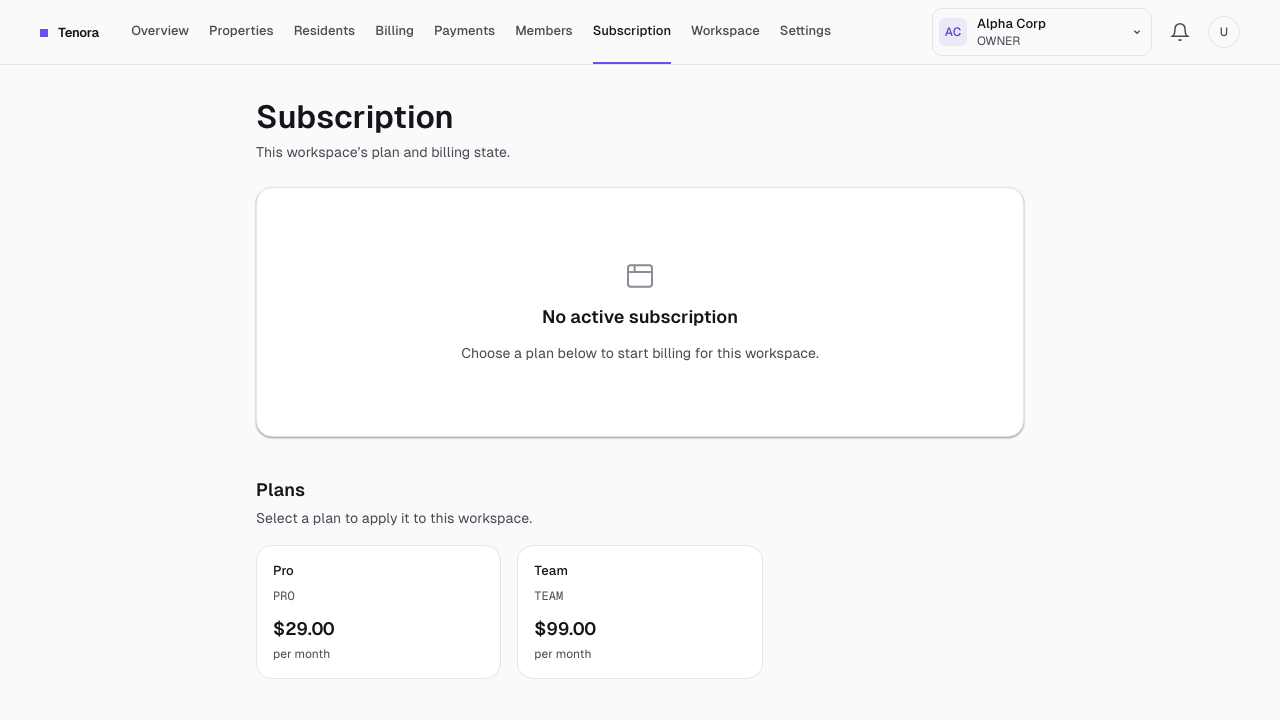
Test case: SubscriptionPage — checkout (D2) › dismissing Checkout sends no confirm request and shows a clean message
Expected: the heading "No active subscription" is shown, [542, 304, 738, 330]
Click the radio button labelled "Pro PRO $29.00 per month" at (379, 612), box [256, 545, 501, 679]
(page scrolled)
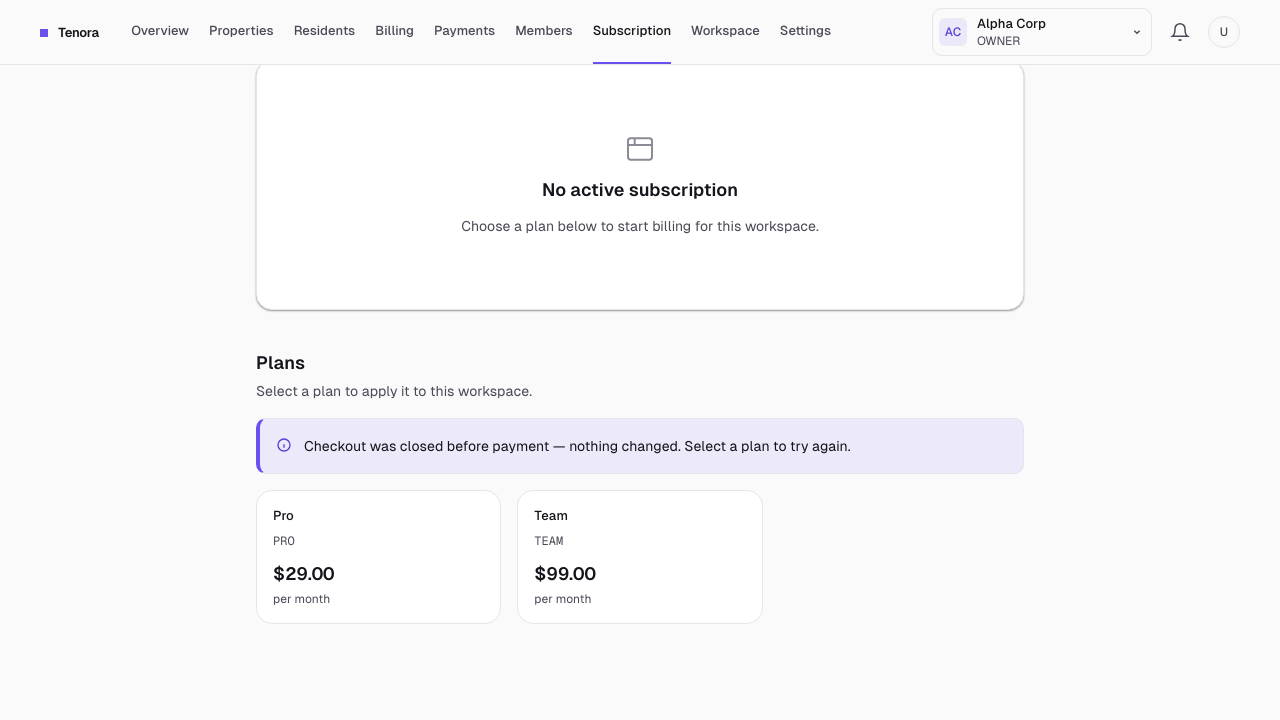
Expected: the heading "No active subscription" is shown, [542, 177, 738, 203]
Now the text "closed before payment" is shown, box [304, 438, 850, 454]
